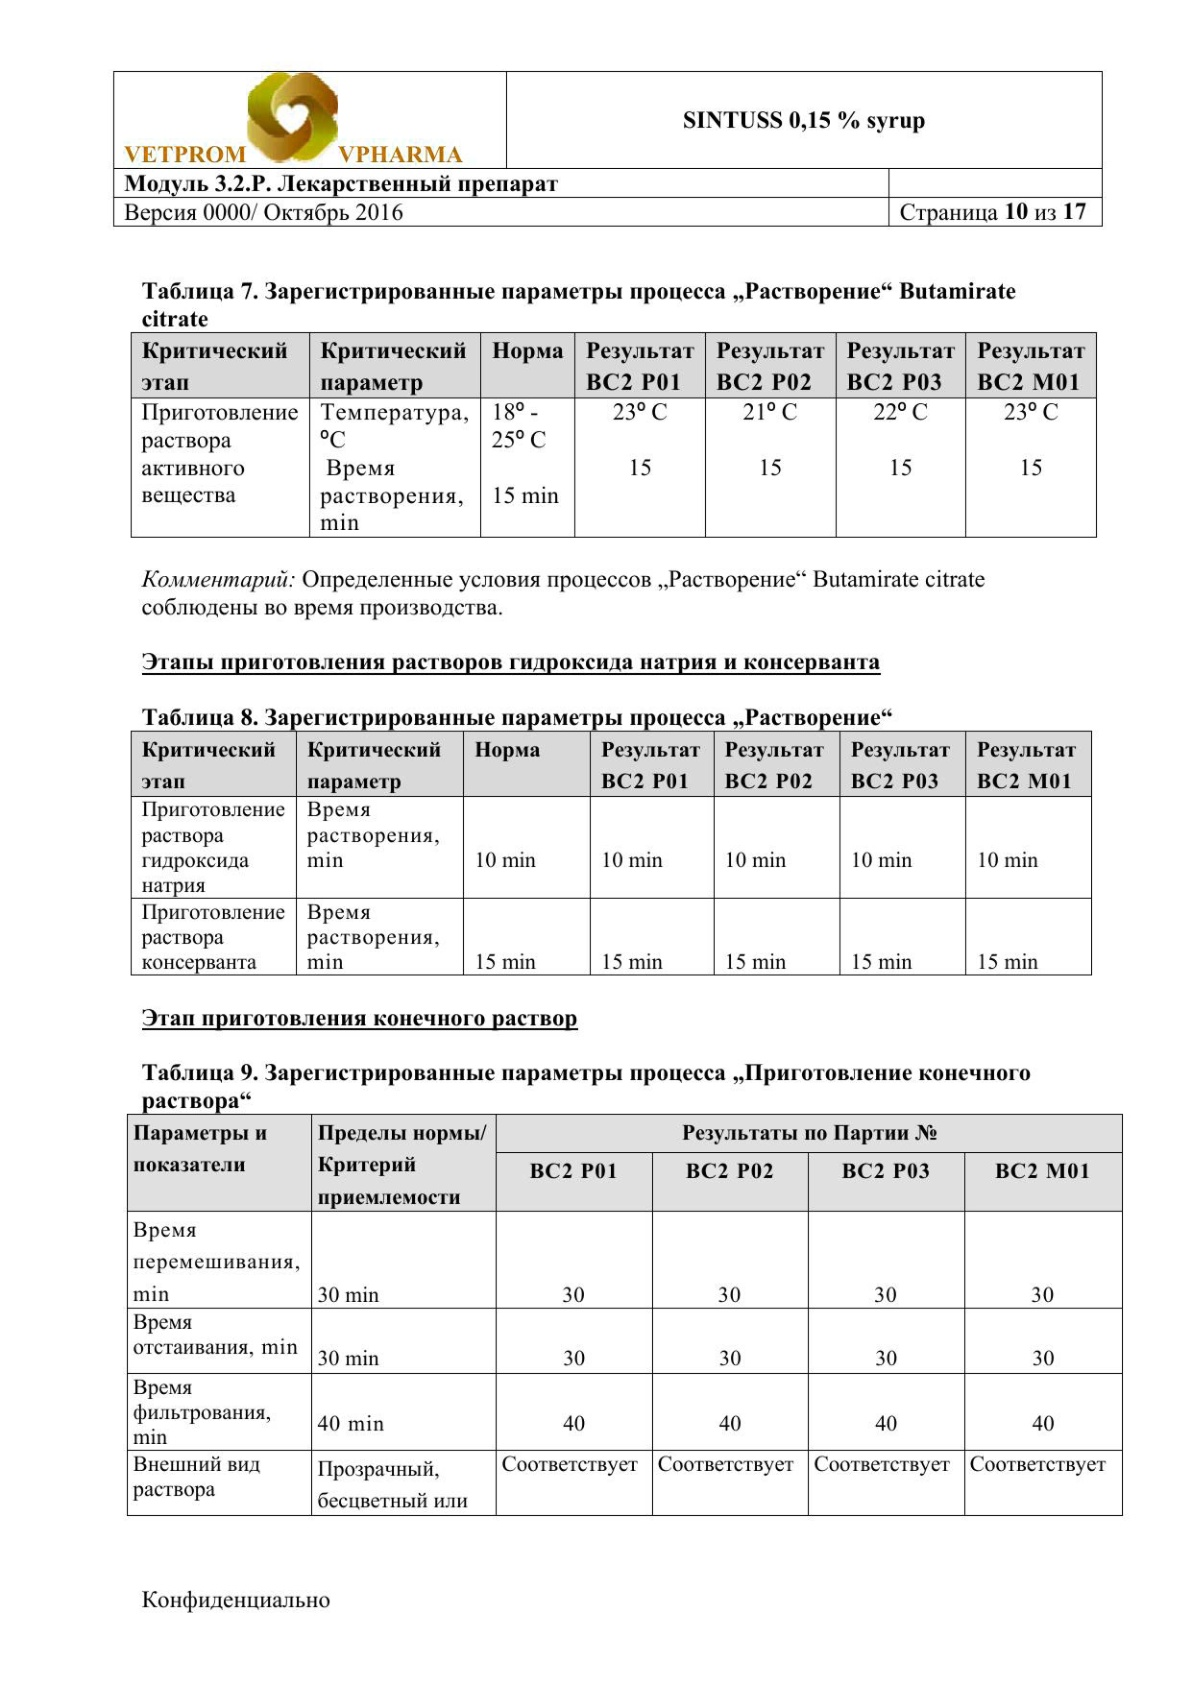full_lined: (130, 730, 1093, 975), (130, 332, 1097, 538)
merged_cells: (126, 1113, 1124, 1516), (112, 70, 1103, 228)
